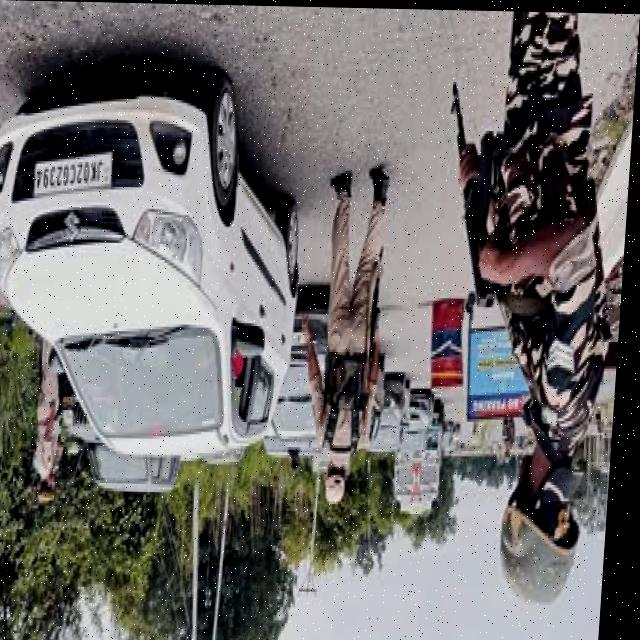plate: (32, 145, 117, 204)
